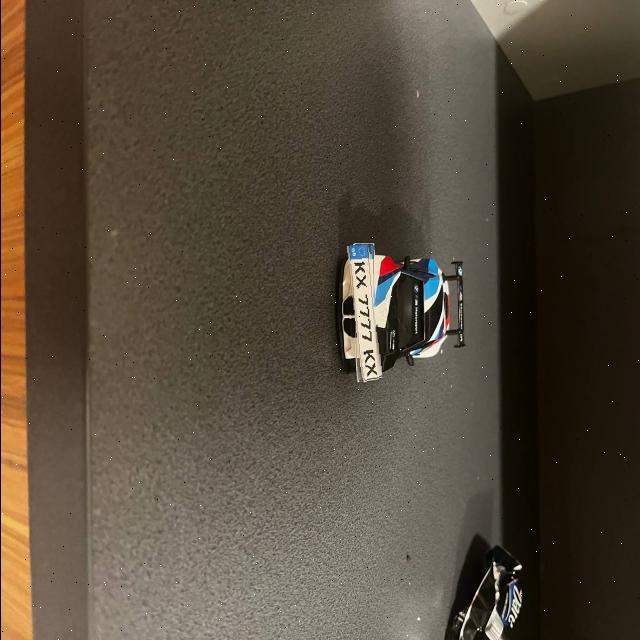KX 7777 KX: (349, 245, 379, 385)
